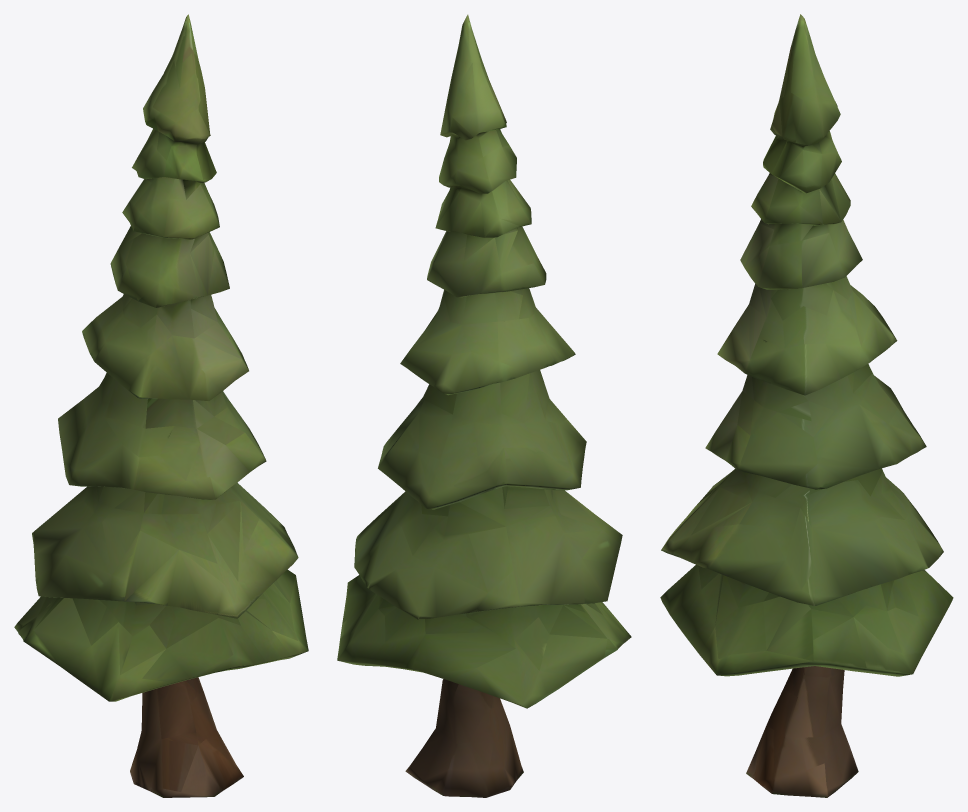
Rendered from EvergreenOptimized.fbx.
3 views of the same model, side by side, from view 1: azimuth 30°, elevation 25°; view 2: azimuth 150°, elevation 25°; view 3: azimuth 270°, elevation 25° (orthographic).
Parts seen in each view (by area): view 1: input; view 2: input; view 3: input.
Boxes of the visible parts, box(x1,y1,x2,y2) form: input: box(14, 14, 308, 797); input: box(337, 14, 631, 797); input: box(660, 14, 953, 797).
Bounding box in the file's own units: 0.3714 × 0.9977 × 0.3488.
